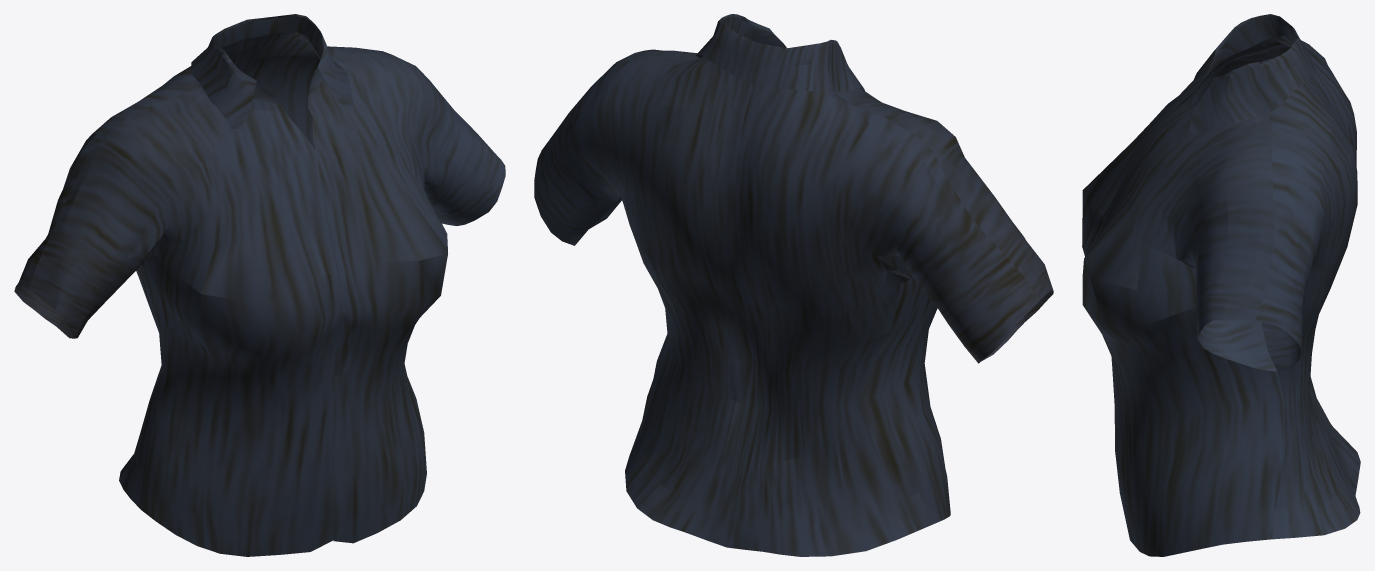
The model's file is SL_SMF.dae.
3 views of the same model, side by side, from view 1: azimuth 30°, elevation 25°; view 2: azimuth 150°, elevation 25°; view 3: azimuth 270°, elevation 25° (orthographic). The views are drawn at different scales.
Visible parts, largest first — view 1: shirt01Mesh; view 2: shirt01Mesh; view 3: shirt01Mesh.
Part boxes in pixels (x1,y1,x2,y2): shirt01Mesh: (14, 14, 505, 556); shirt01Mesh: (534, 14, 1053, 556); shirt01Mesh: (1082, 14, 1360, 556).
Bounding box in the file's own units: 5.55 × 5.43 × 2.83.
